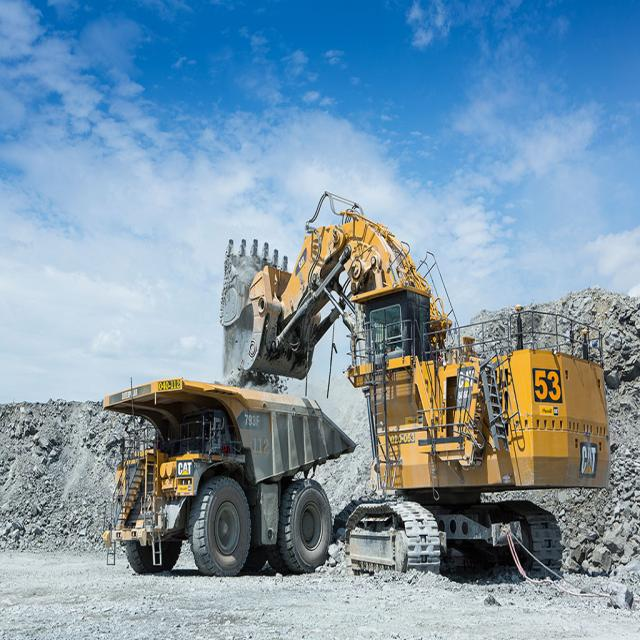dump_truck: (85, 380, 354, 595)
